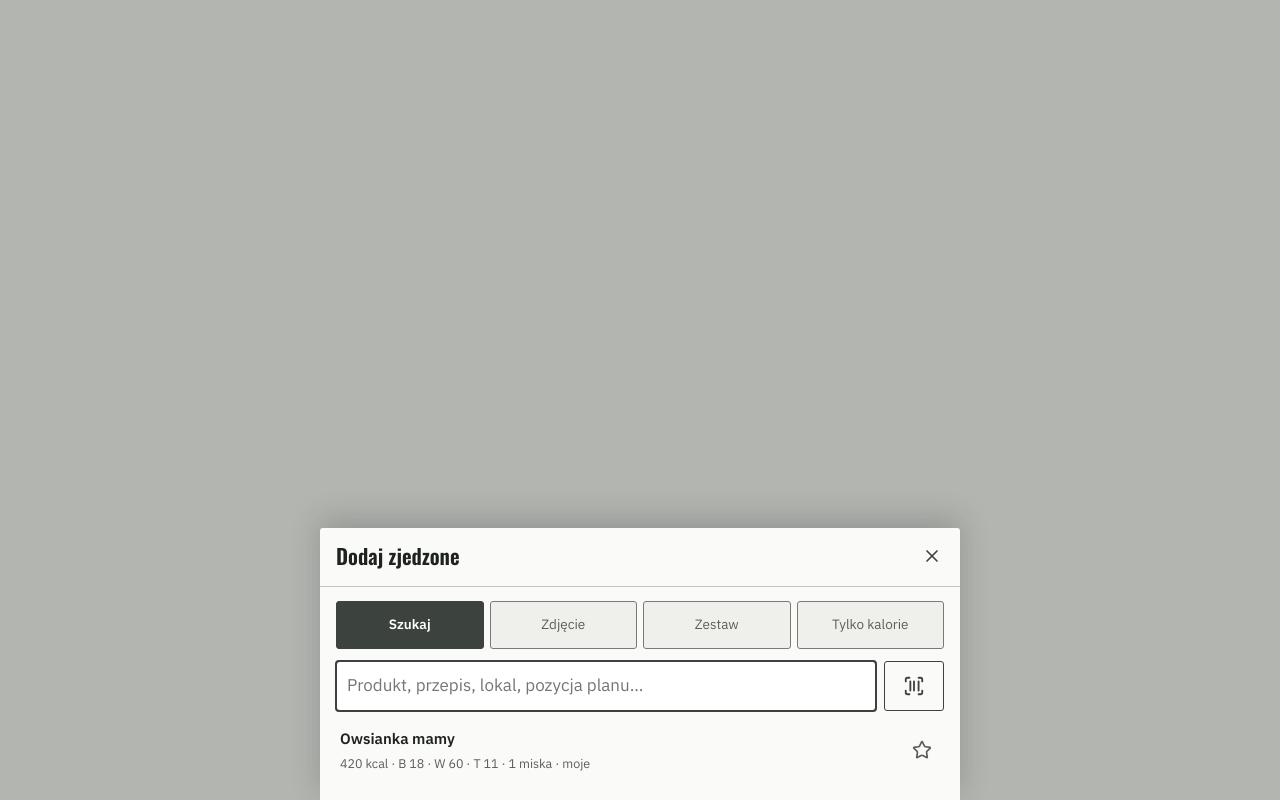
Test: „Dodaj zjedzone” wobec celu dnia › ponad pasmem: o ile ponad cel
The image size is (1280, 800).
Type "strips" into the search field named "Szukaj jedzenia" at x=606, y=686, box [336,661,876,711]
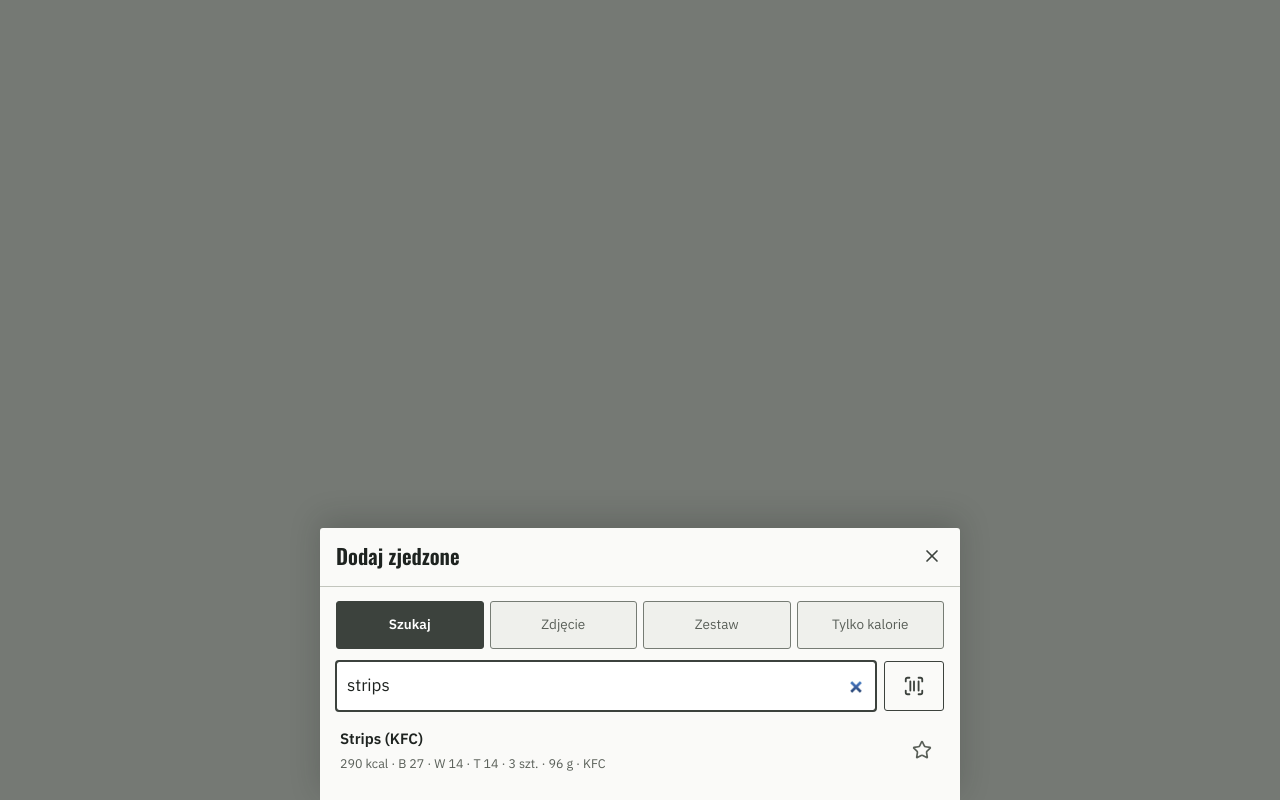
Click the button "Strips (KFC)" at x=381, y=738, box [336,719,898,782]
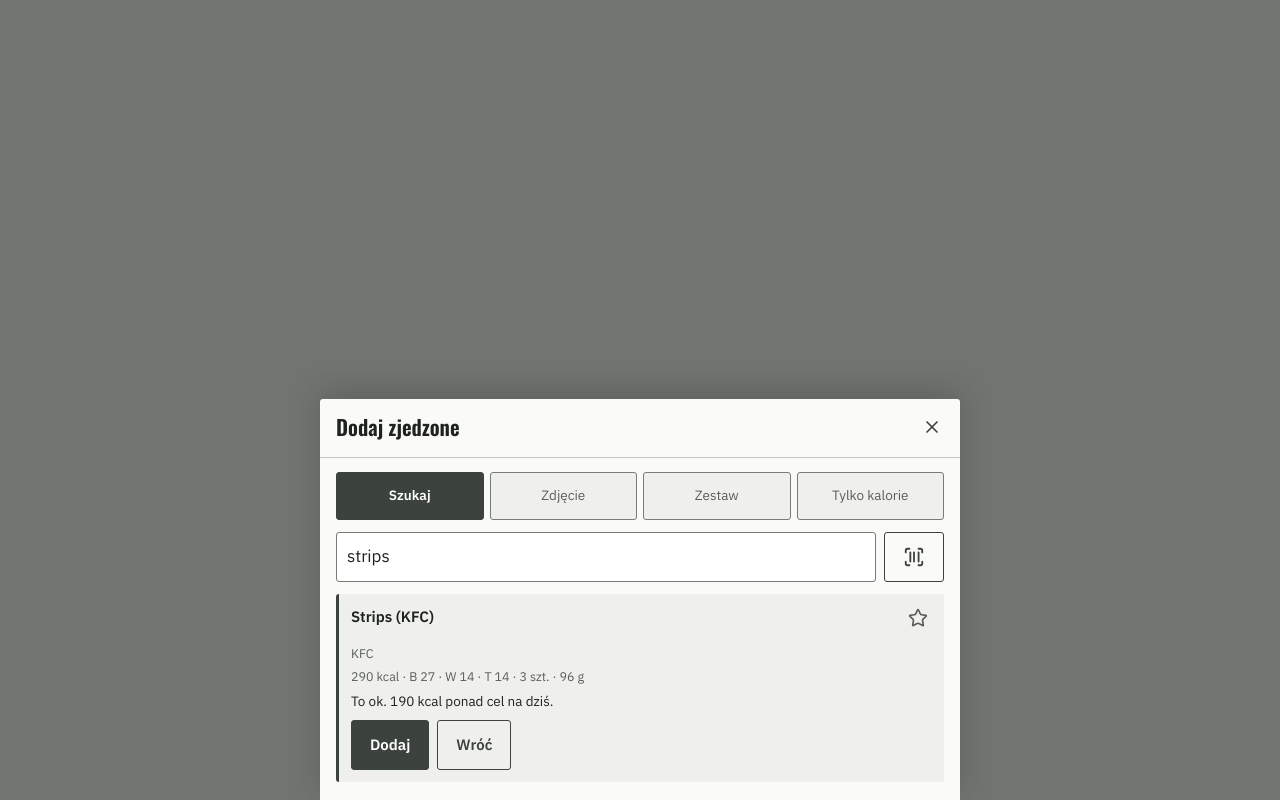
expect the text "To ok. 190 kcal ponad cel na dziś." is shown: met, box [351,692,553,710]
